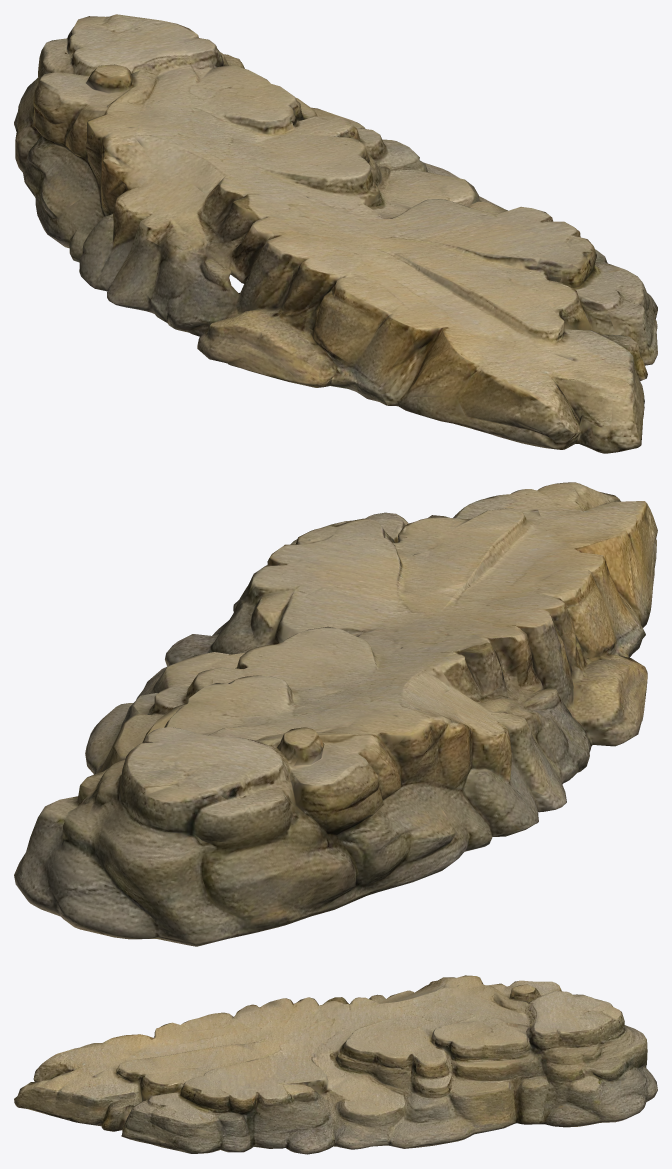
3 views of the same model, one above another, from view 1: azimuth 30°, elevation 25°; view 2: azimuth 150°, elevation 25°; view 3: azimuth 270°, elevation 25° (orthographic). The views are drawn at different scales.
Visible parts, largest first — view 1: node_0; view 2: node_0; view 3: node_0.
Part boxes in pixels (x1,y1,x2,y2): node_0: (14,14,657,453); node_0: (14,482,657,946); node_0: (14,975,657,1154).
Size of the model in its own units: 0.5482 by 0.157 by 1.18.
Materials: 1 (1 with a texture image).
